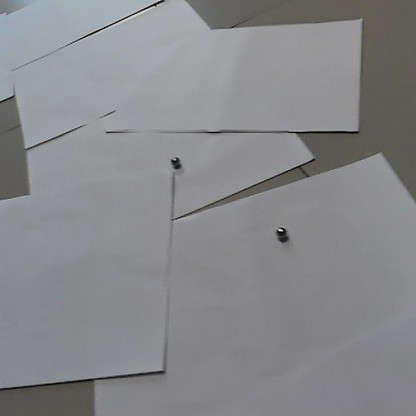ironball: (167, 153, 182, 167), (274, 224, 287, 240)
